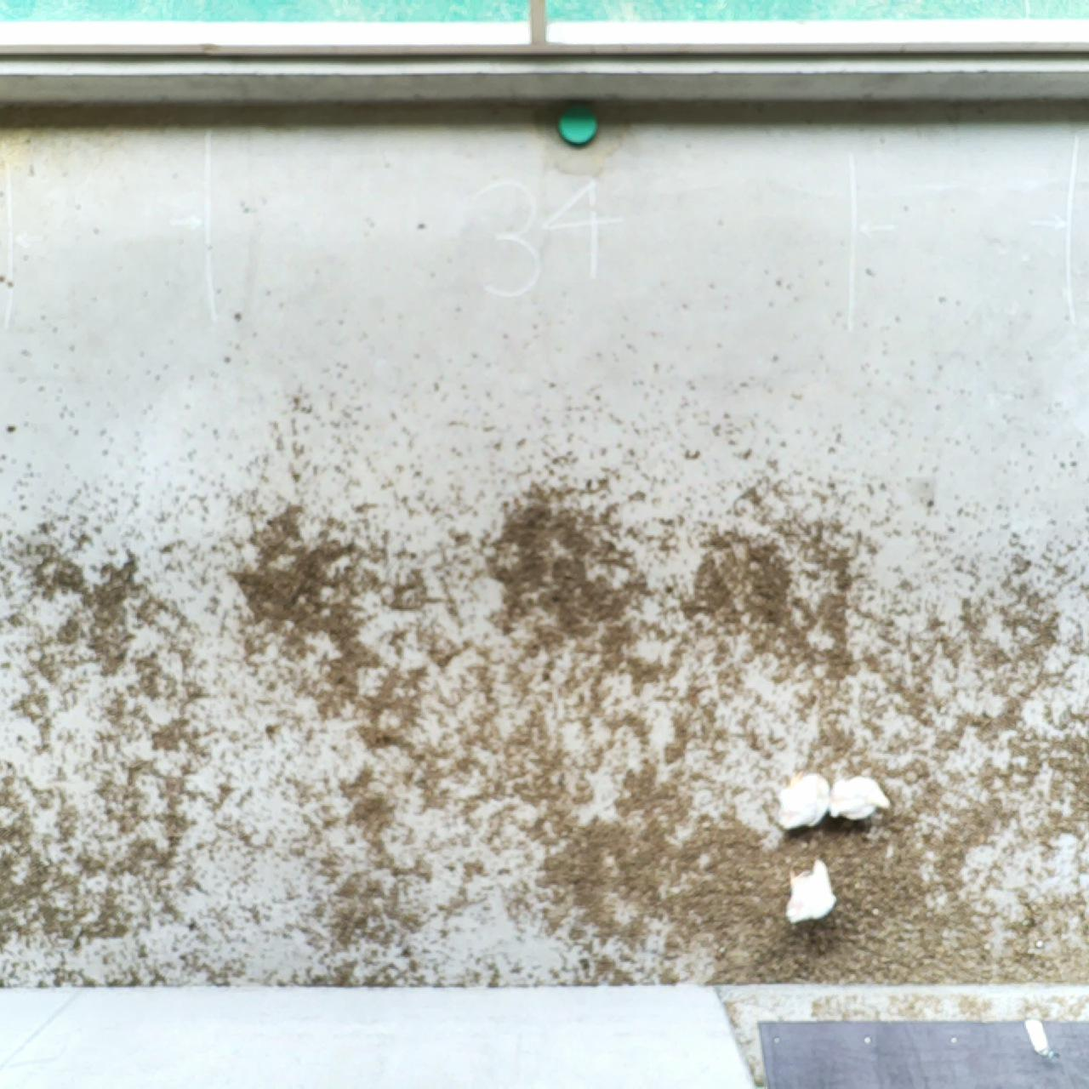chicken: (786, 857, 838, 925), (776, 768, 832, 831), (827, 773, 894, 822)
